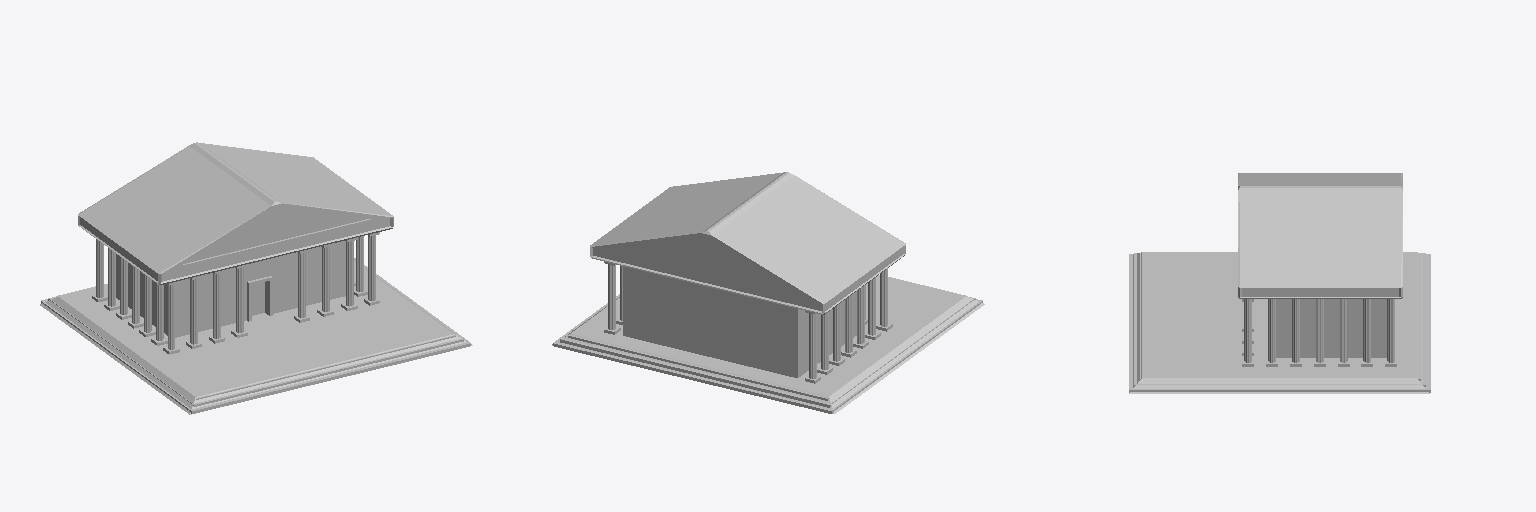
File: AyuntamientoV1.obj
3 views of the same model, side by side, from view 1: azimuth 30°, elevation 25°; view 2: azimuth 150°, elevation 25°; view 3: azimuth 270°, elevation 25° (orthographic).
Visible parts, largest first — view 1: AyuntamientoV1:Ayuntamiento AyuntamientoV1:Ayuntamiento_m Ayunta, Collider; view 2: AyuntamientoV1:Ayuntamiento AyuntamientoV1:Ayuntamiento_m Ayunta, Collider; view 3: AyuntamientoV1:Ayuntamiento AyuntamientoV1:Ayuntamiento_m Ayunta, Collider.
Boxes of the visible parts, x1=… form: AyuntamientoV1:Ayuntamiento AyuntamientoV1:Ayuntamiento_m Ayunta: x1=41, y1=142, x2=470, y2=413; Collider: x1=40, y1=259, x2=472, y2=414; AyuntamientoV1:Ayuntamiento AyuntamientoV1:Ayuntamiento_m Ayunta: x1=553, y1=172, x2=982, y2=413; Collider: x1=552, y1=275, x2=984, y2=413; AyuntamientoV1:Ayuntamiento AyuntamientoV1:Ayuntamiento_m Ayunta: x1=1129, y1=173, x2=1430, y2=392; Collider: x1=1129, y1=252, x2=1429, y2=393.
Size of the model in its own units: 1623 by 755 by 1500.